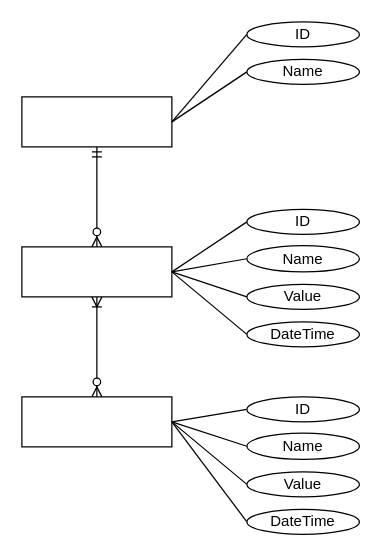
The diagram is 381 pixels wide and 556 high, and some of its shapes have lost their labels. Here are the shapes that lost their labels. From the top down, the centre of each, then its label:
the point at 96,121: class
the point at 96,271: object
the point at 96,421: item
